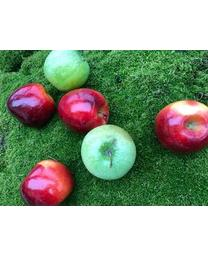apple: (80, 124, 135, 180), (153, 101, 207, 154), (19, 159, 74, 205), (57, 88, 108, 131), (7, 83, 55, 128), (44, 51, 90, 90)
